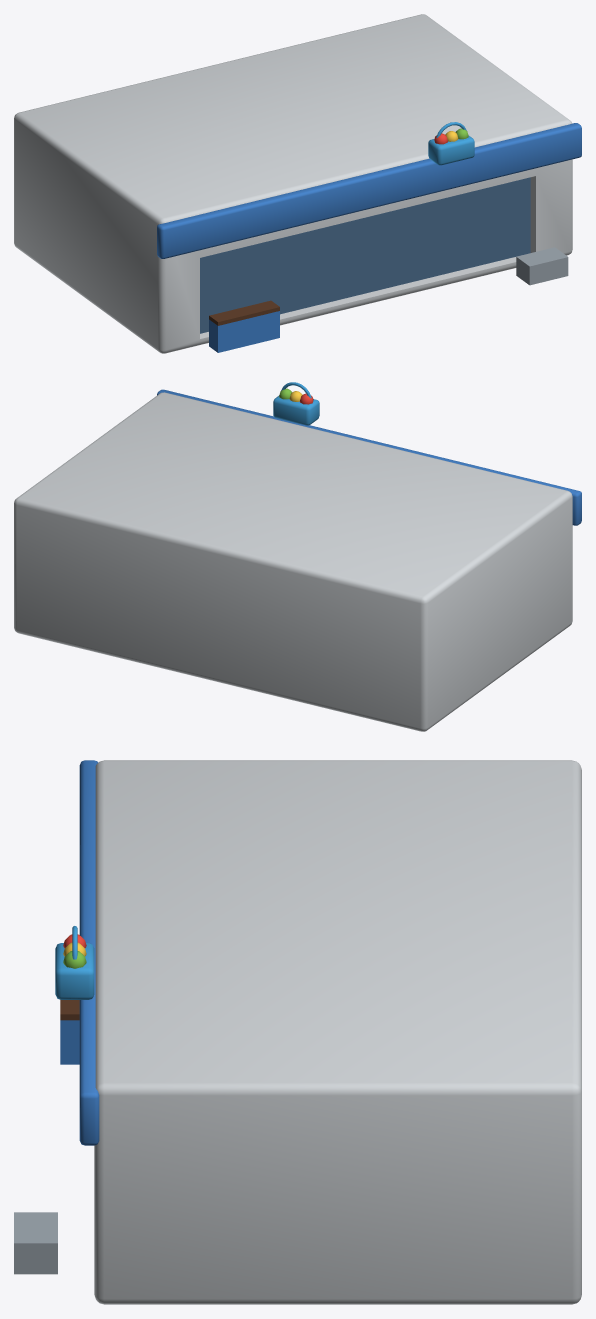
The model's file is supermarket.gltf.
3 views of the same model, one above another, from view 1: azimuth 30°, elevation 25°; view 2: azimuth 150°, elevation 25°; view 3: azimuth 270°, elevation 25° (orthographic). The views are drawn at different scales.
Visible parts, largest first — view 1: supermarket_mesh, INT_counter_grocery; view 2: supermarket_mesh; view 3: supermarket_mesh.
Boxes of the visible parts, x1,y1,x2,y2 form: supermarket_mesh: (14,14,581,353); INT_counter_grocery: (209,300,279,325); supermarket_mesh: (14,382,581,731); supermarket_mesh: (14,760,581,1304).
Size of what is drawn, in the model's own units: 16.3 by 6.26 by 11.65.
